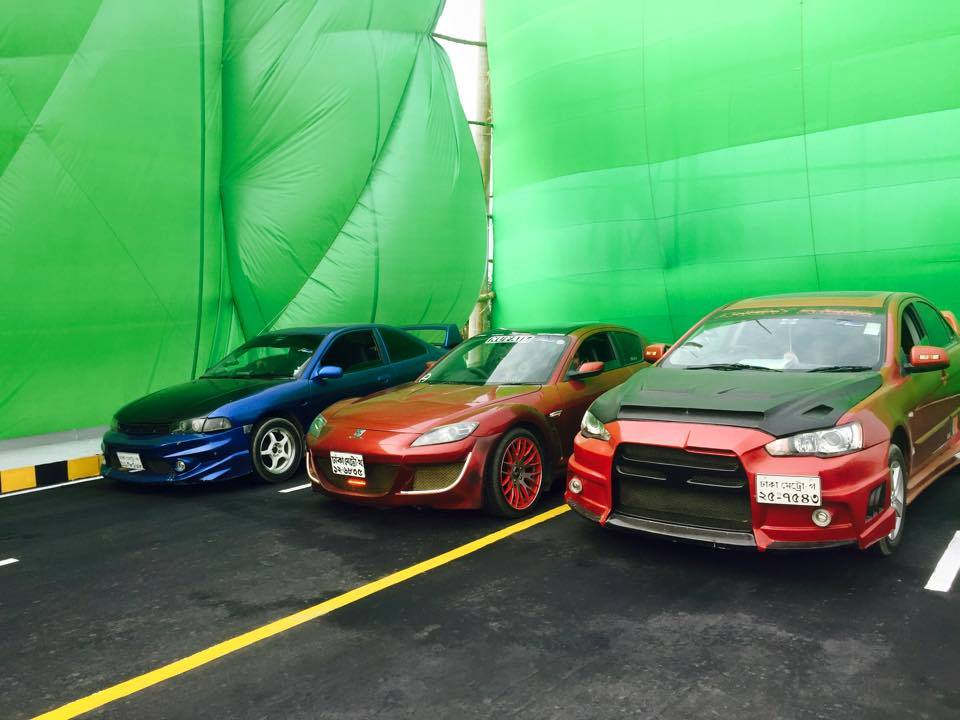registration_plate: (756, 473, 821, 506), (330, 450, 365, 477), (116, 450, 146, 470)
